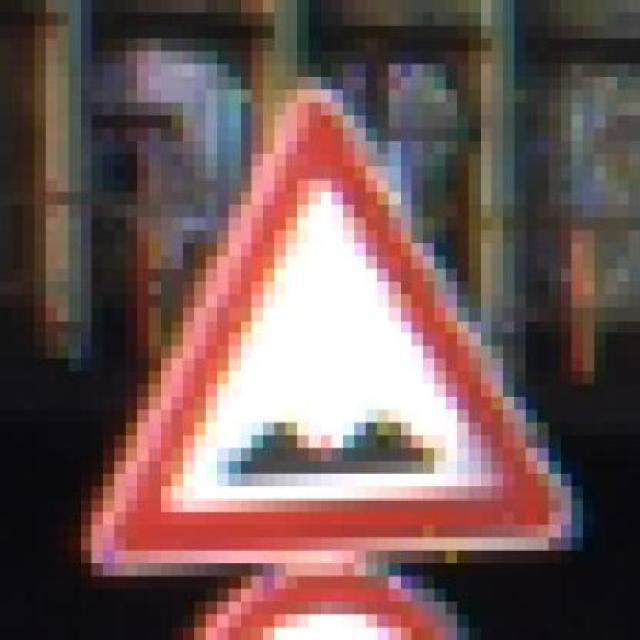Uneven Road: (80, 65, 583, 563)
